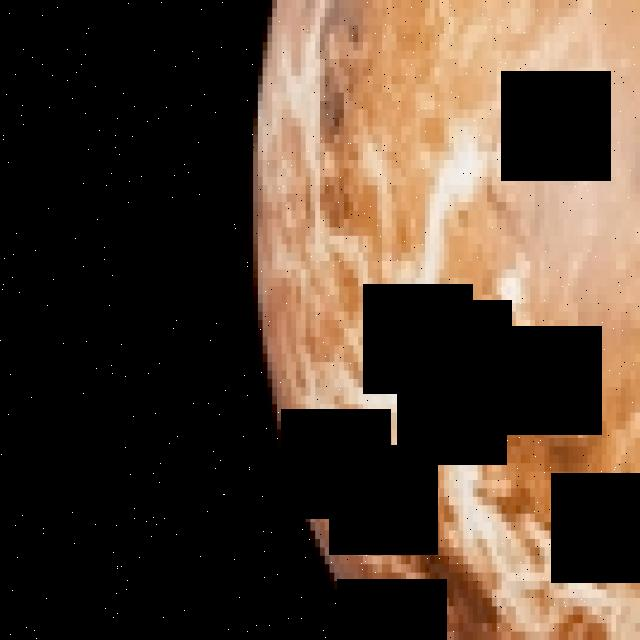Venus: (248, 0, 640, 640)
